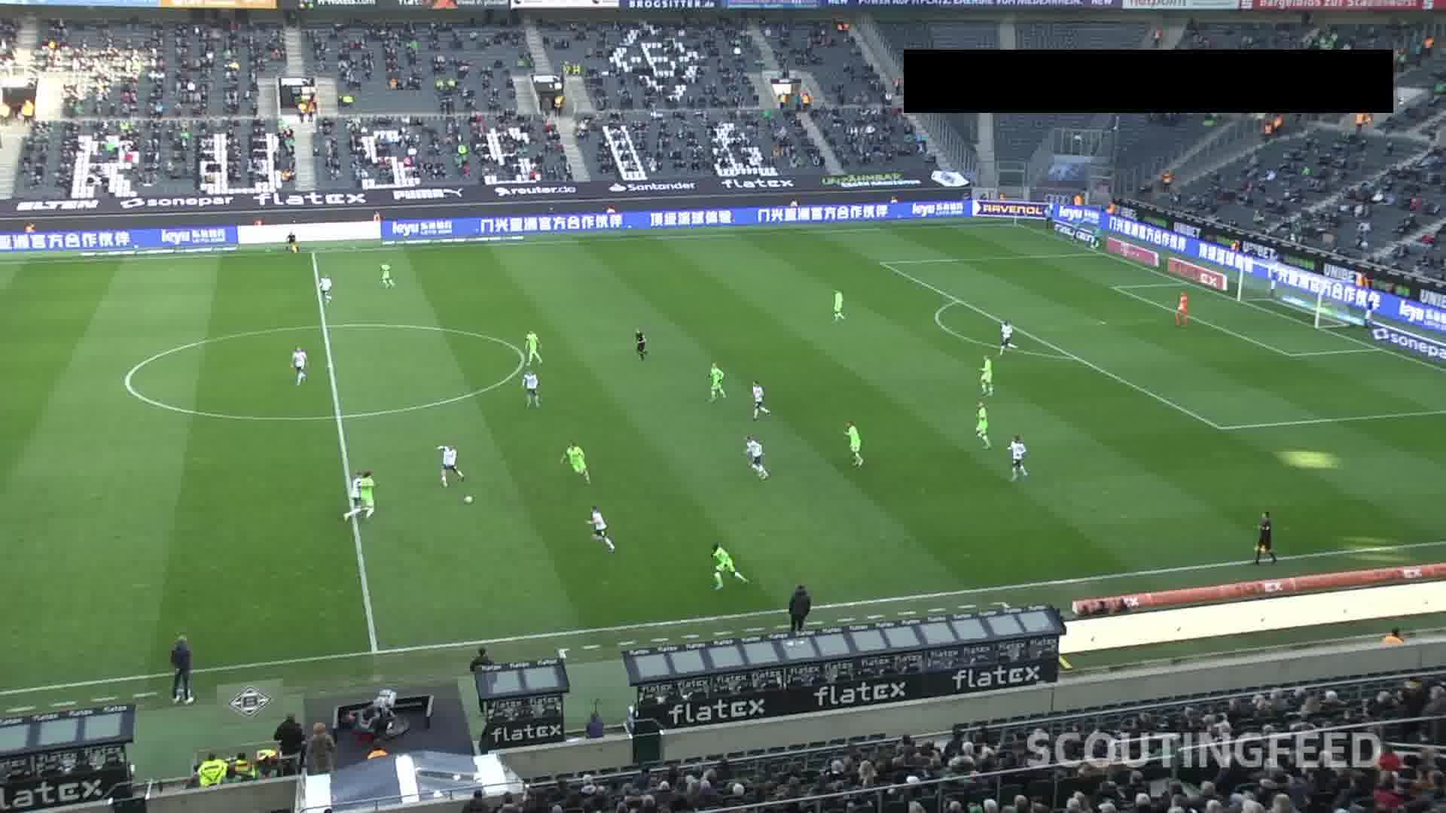ball: (459, 492, 479, 511)
coach_staff: (168, 632, 195, 708), (461, 640, 498, 695), (778, 575, 810, 635)
goalkeeper: (1167, 286, 1191, 325)
player: (702, 537, 749, 592), (577, 502, 621, 555), (429, 438, 471, 491), (281, 339, 314, 386), (565, 433, 590, 486), (975, 355, 1004, 399), (844, 417, 867, 469), (744, 376, 769, 422), (743, 437, 769, 481), (360, 467, 379, 524), (521, 321, 544, 366), (1005, 434, 1028, 479), (970, 400, 992, 444), (373, 258, 404, 289), (521, 370, 546, 408), (707, 358, 729, 401), (999, 306, 1018, 355), (825, 286, 850, 320), (346, 468, 360, 526), (319, 270, 338, 305)
referee: (1248, 507, 1278, 567), (629, 321, 651, 364), (282, 232, 300, 253)
